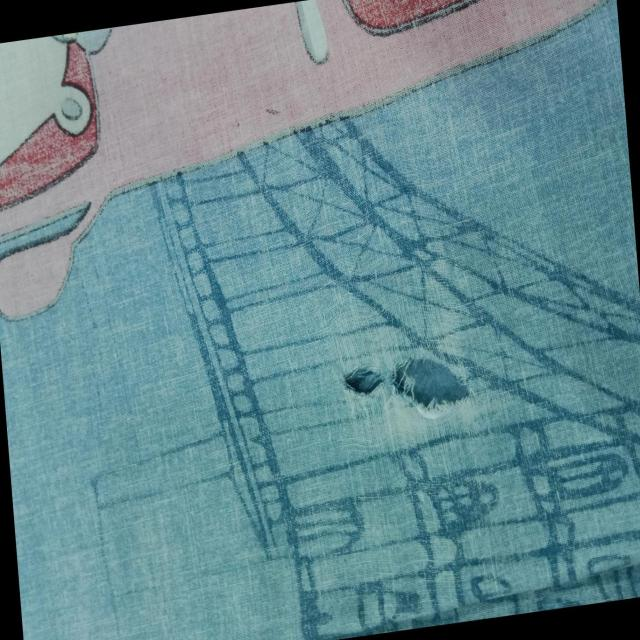cut: (329, 334, 484, 432)
